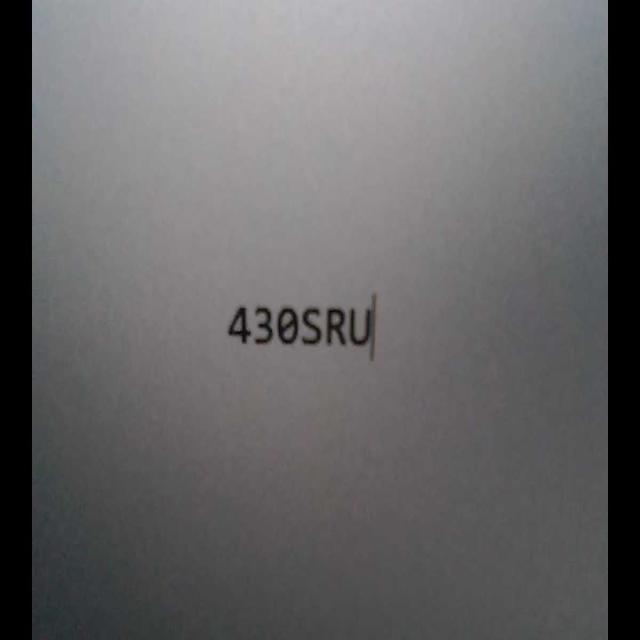license_plate: (220, 294, 371, 360)
